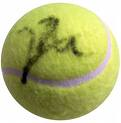tennis ball: (1, 1, 120, 121)
